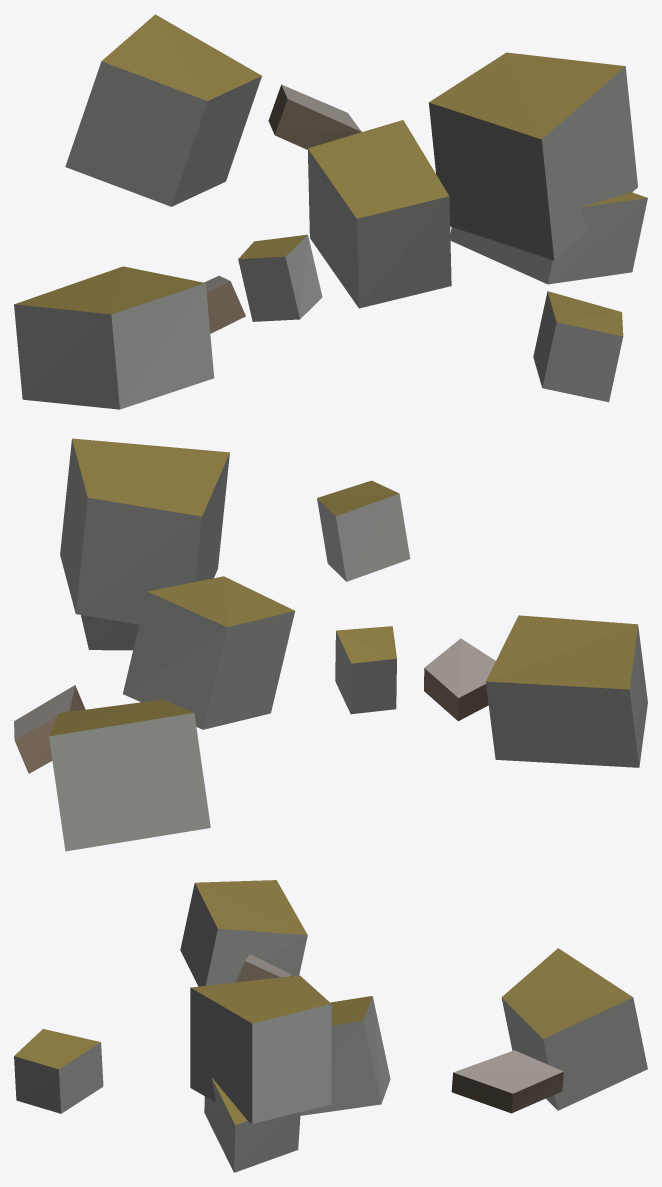
The model's file is rock.rubble__stacked__summer.glb.
3 renders of one model, top to bottom at view 1: azimuth 30°, elevation 25°; view 2: azimuth 150°, elevation 25°; view 3: azimuth 270°, elevation 25°, orthographic. The views are drawn at different scales.
Visible parts, largest first — view 1: rock.rubble; view 2: rock.rubble; view 3: rock.rubble.
Part boxes in pixels (box(x1,y1,x2,y2)): rock.rubble: box(14, 14, 647, 409); rock.rubble: box(14, 438, 647, 851); rock.rubble: box(14, 880, 647, 1172).
Bounding box in the file's own units: 2.41 × 0.8004 × 2.82.
